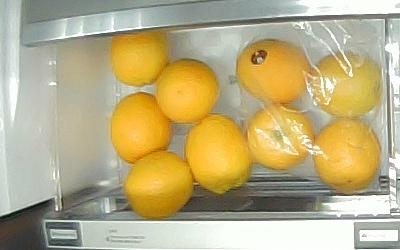orange: (185, 114, 250, 194), (124, 150, 193, 218), (110, 92, 175, 163), (155, 59, 220, 124), (111, 29, 170, 87)
orange_vinyl: (313, 118, 382, 193), (311, 52, 383, 119), (237, 39, 311, 104), (247, 103, 314, 170)
